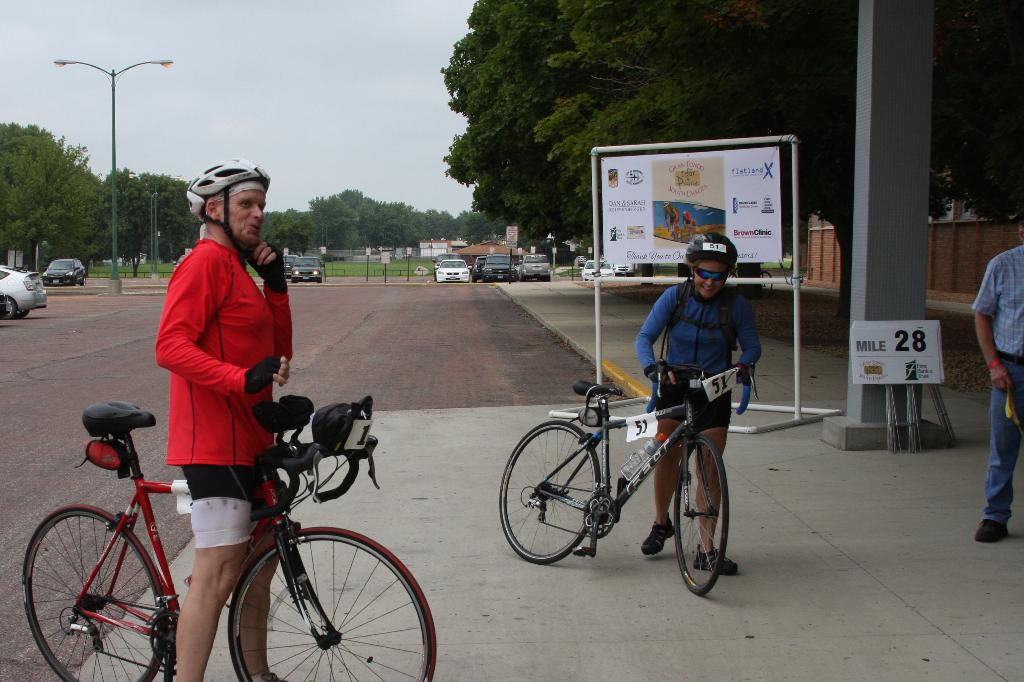Bike: (45, 422, 439, 682)
